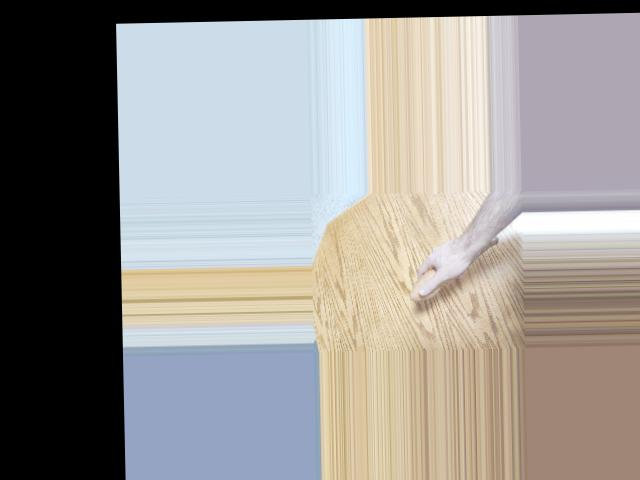sweet_potato: (407, 229, 504, 302)
